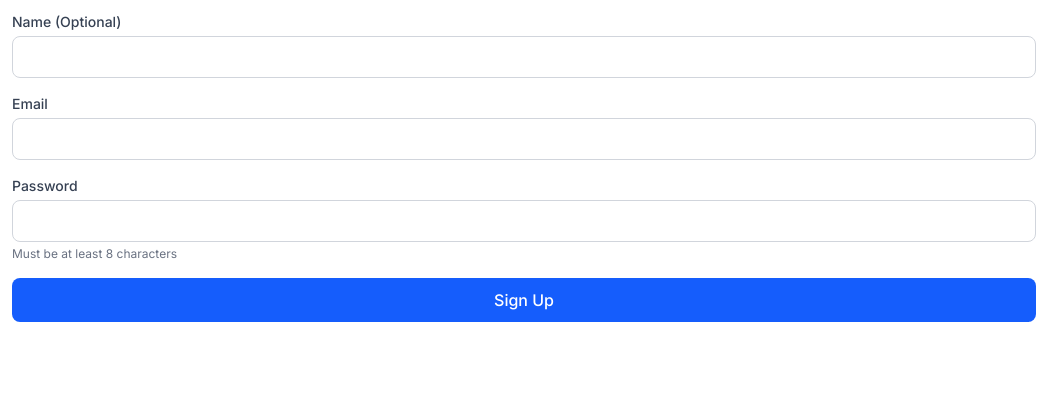
Scenario: SignupForm Component › shows error if account creation fails but login also fails
Type "test@example.com" into the field labelled "Email".
click(524, 139); type("test@example.com")  # box x1=12 y1=118 x2=1036 y2=160
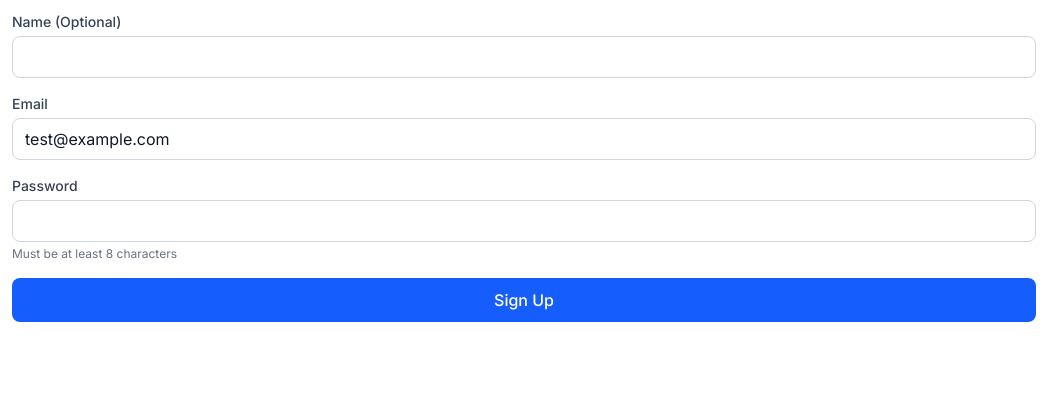
Type "password123" into the password field labelled "Password".
click(524, 221); type("password123")  # box x1=12 y1=200 x2=1036 y2=242
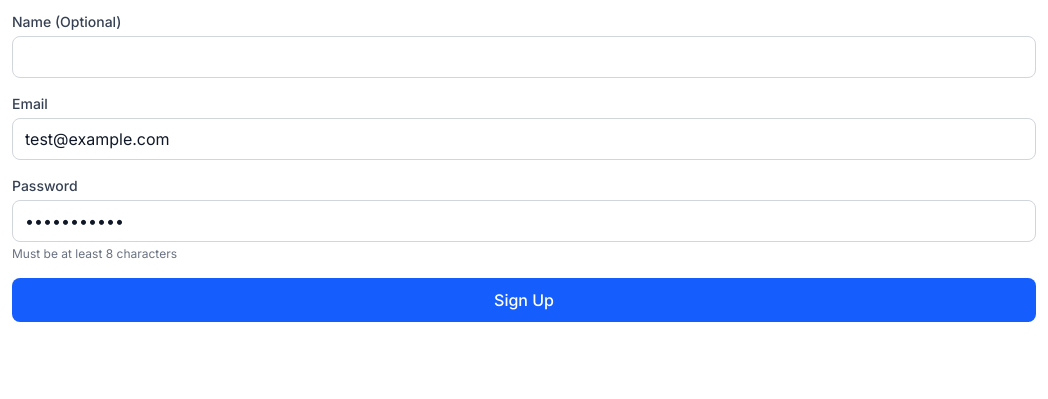
Click the button "Sign Up".
click(524, 300)  # box x1=12 y1=278 x2=1036 y2=322
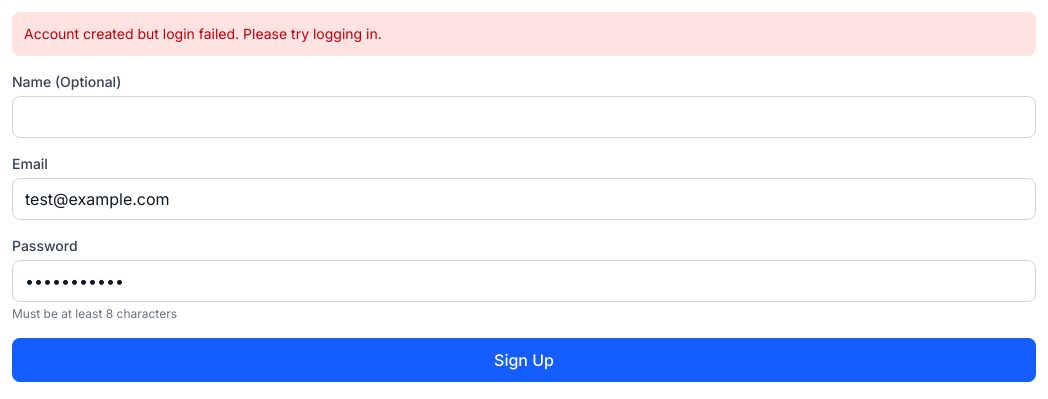
Expected: the message shows "Account created but login failed", x1=24 y1=25 x2=382 y2=42
